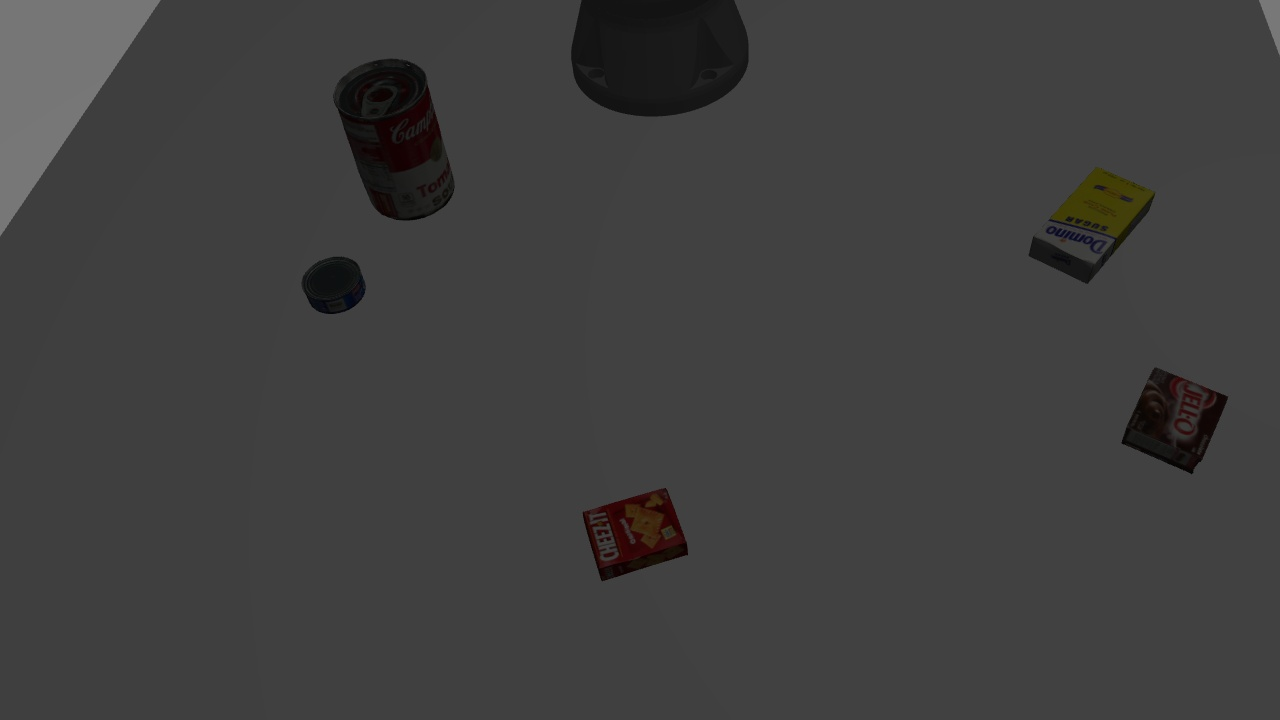cracker_box: (569, 478, 693, 581)
pudding_box: (1121, 361, 1230, 478)
sugar_box: (1029, 158, 1164, 291)
tomato_soup_can: (327, 54, 462, 222)
tuna_fish_can: (298, 253, 372, 321)
